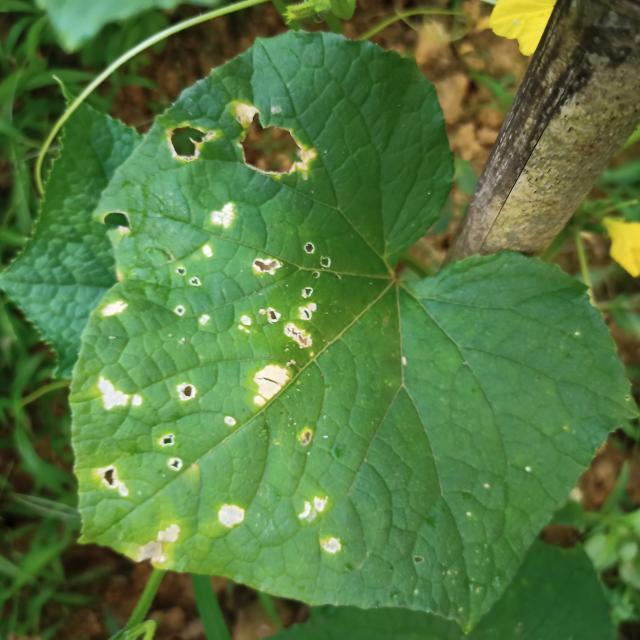disease_cucumber: (237, 241, 337, 352), (232, 100, 320, 184), (298, 492, 346, 555), (244, 359, 300, 412), (166, 122, 218, 167), (96, 372, 143, 418), (136, 521, 180, 568), (154, 431, 186, 471), (215, 500, 248, 535), (100, 461, 130, 499), (209, 200, 238, 233), (101, 300, 131, 321), (174, 380, 198, 404)
